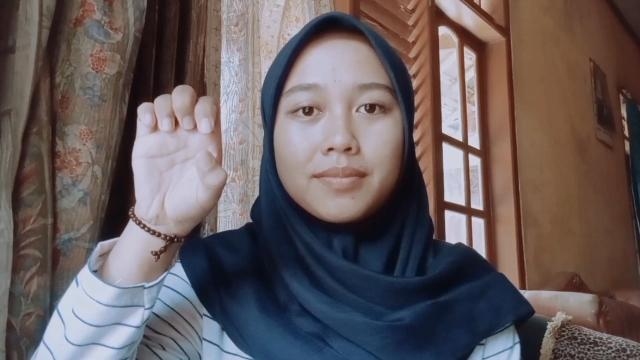E: (130, 82, 228, 229)
